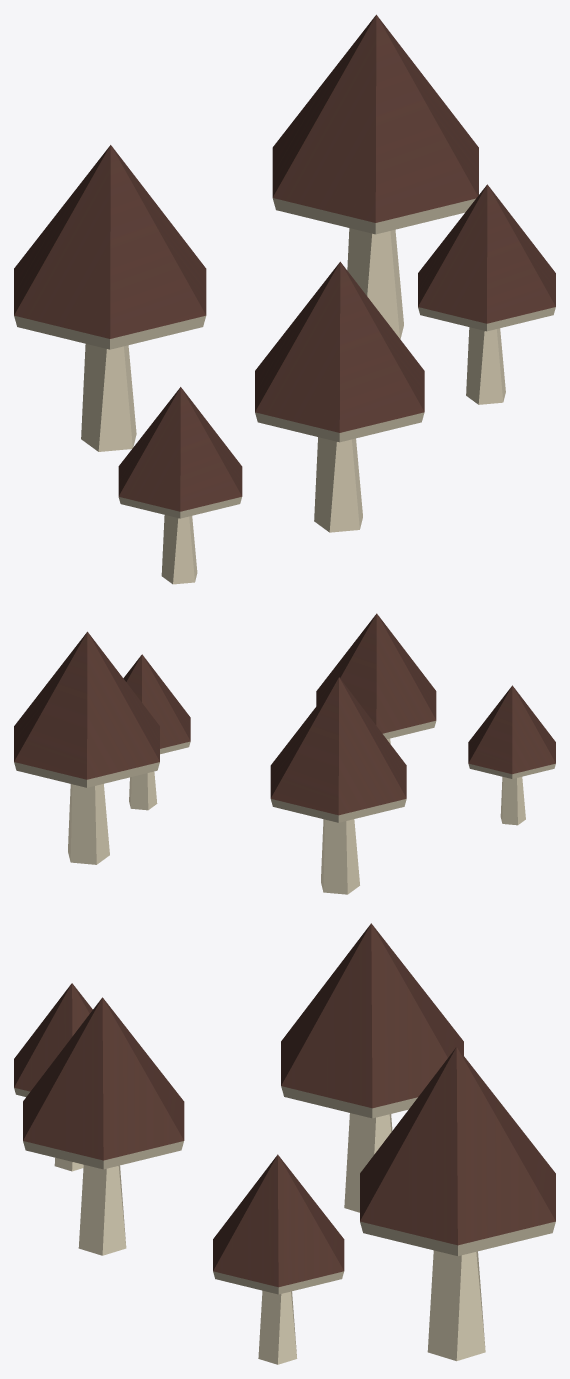
The model's file is Mushroom_2B.fbx.
3 renders of one model, top to bottom at view 1: azimuth 30°, elevation 25°; view 2: azimuth 150°, elevation 25°; view 3: azimuth 270°, elevation 25°, orthographic. The views are drawn at different scales.
Parts seen in each view (by area): view 1: polySurface10611; view 2: polySurface10611; view 3: polySurface10611.
Boxes of the visible parts, <box> form: polySurface10611: <box>14,14,555,584</box>; polySurface10611: <box>14,613,555,894</box>; polySurface10611: <box>14,923,555,1364</box>.
Bounding box in the file's own units: 121 × 65.31 × 106.
